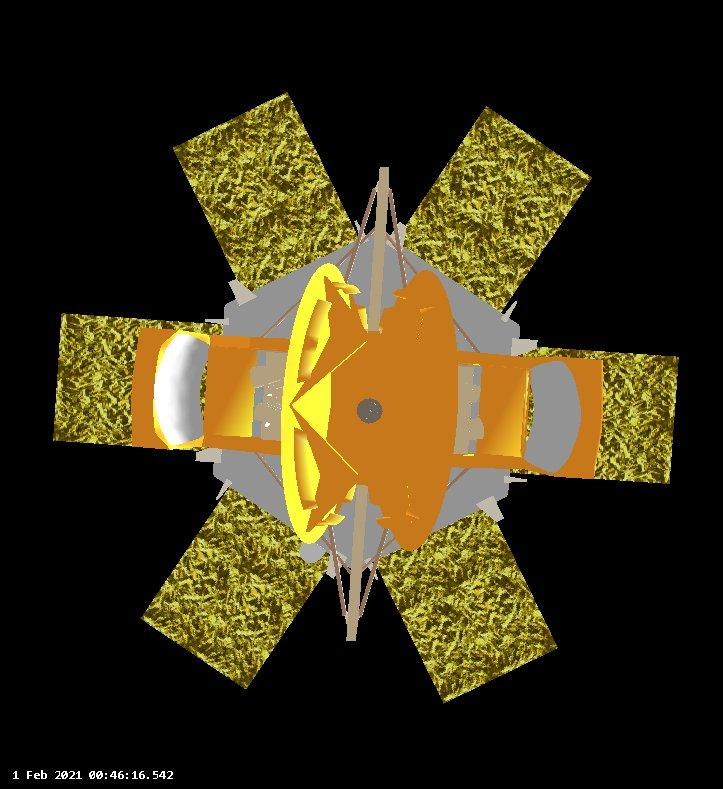antenna: (370, 267, 463, 551), (273, 261, 359, 548), (334, 474, 382, 639), (149, 323, 209, 454), (520, 356, 584, 473), (354, 390, 385, 430)
body: (204, 229, 525, 578)
solar: (383, 99, 598, 317), (137, 478, 349, 697), (164, 86, 362, 300), (368, 503, 562, 708), (48, 307, 235, 459), (514, 343, 685, 488)
